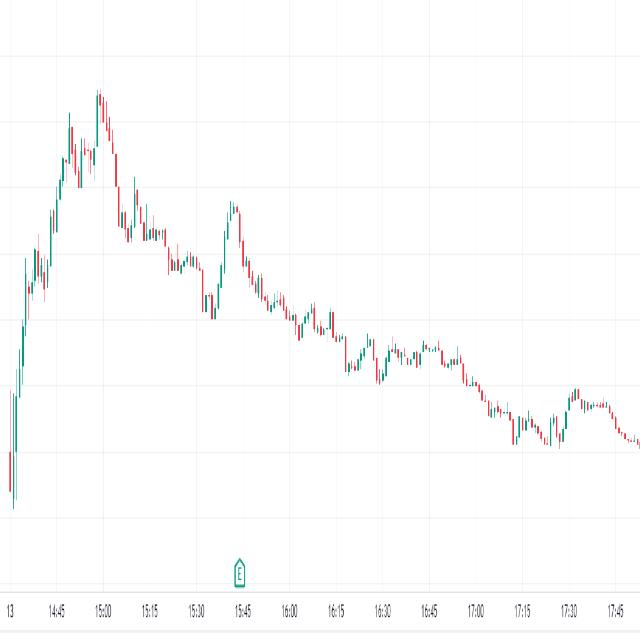Channel-down: (14, 53, 632, 521)
